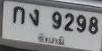letters: (13, 6, 25, 24), (64, 12, 74, 32), (88, 17, 99, 35), (52, 11, 62, 30), (29, 9, 40, 26), (76, 15, 86, 33)
province: (38, 33, 64, 45)
